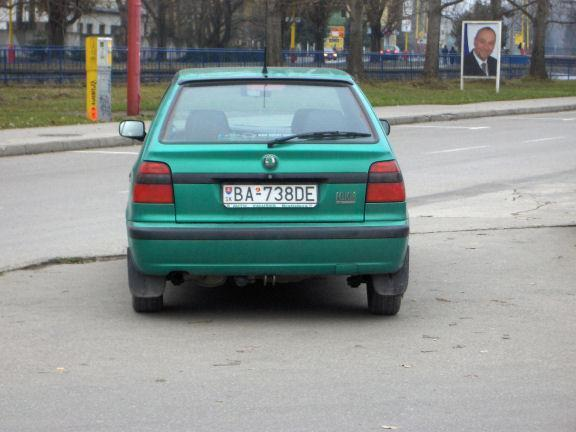placa de veiculo: (210, 169, 329, 223)
